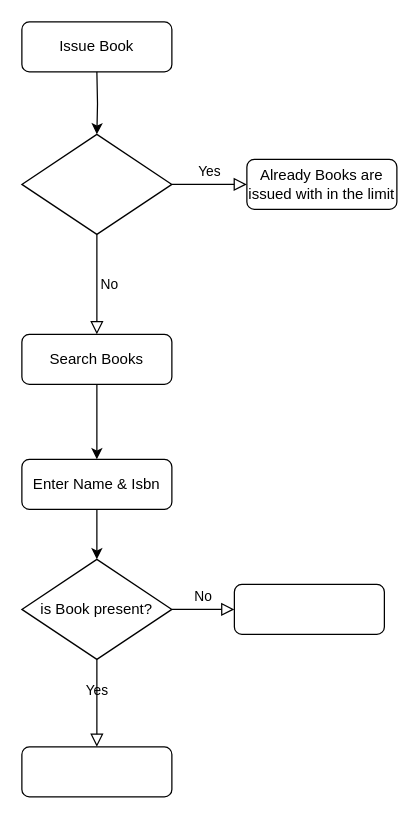
Some shapes in this 419 by 819 pixel diagram are drawn without their labels. Here are the shapes that lost their labels. From the top down, the centre of each, then its label:
At point (96, 183): "number of books issued exceed?".
At point (308, 608): "No Books are available".
At point (96, 771): "Issues a book".
